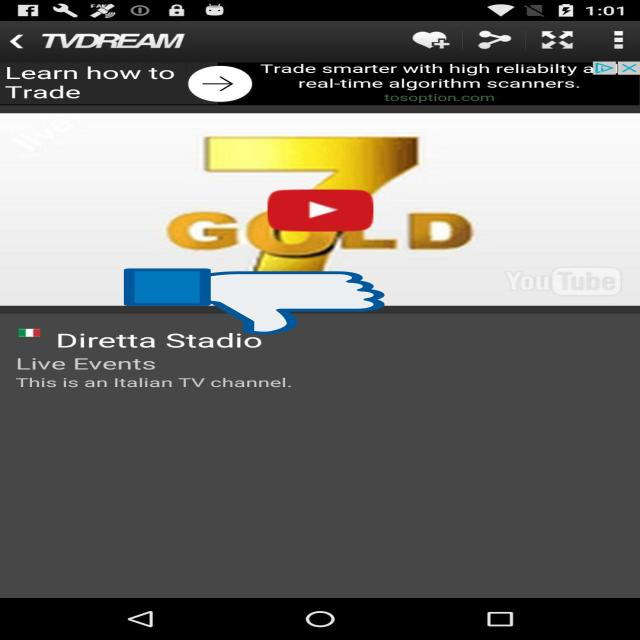obstruction: (124, 267, 384, 336)
